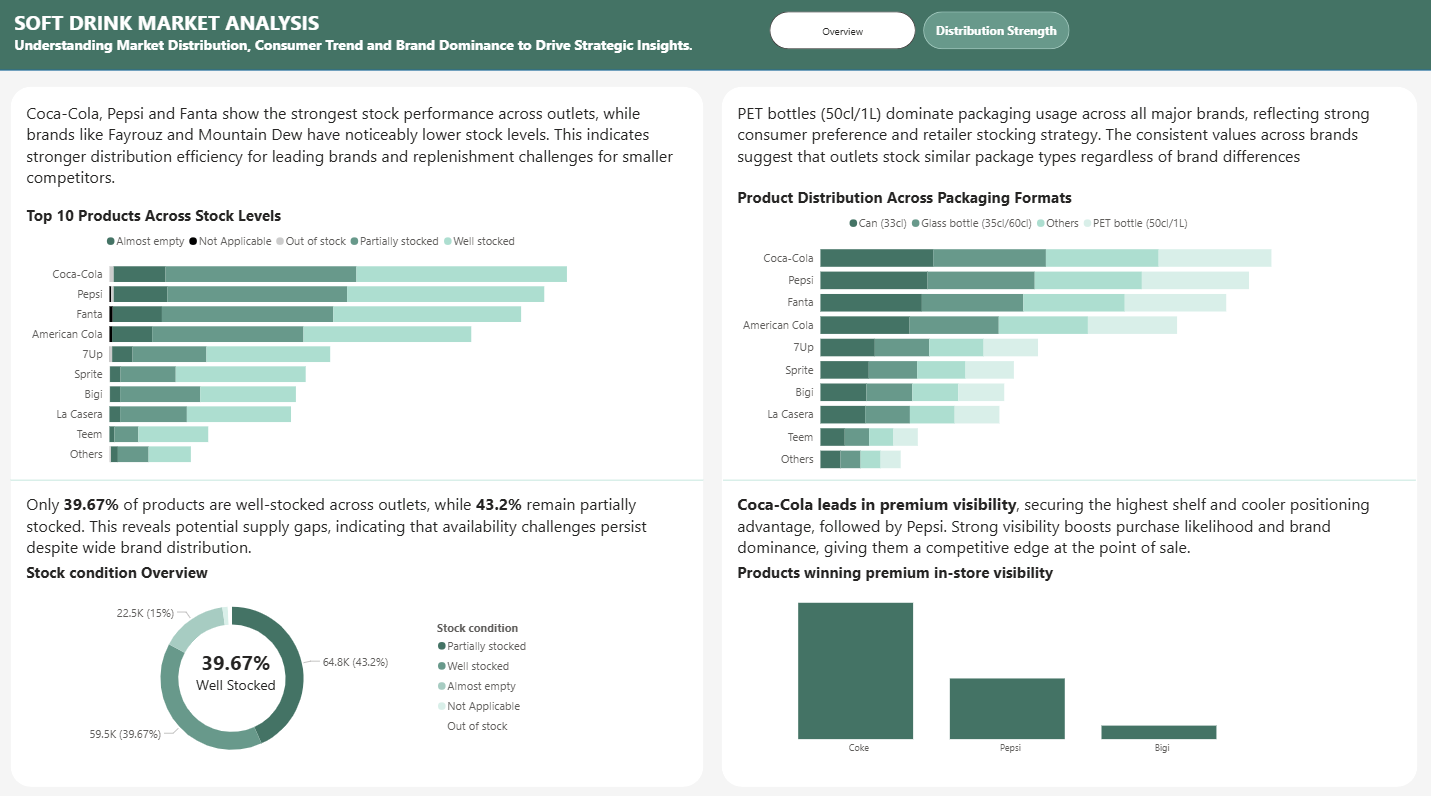

What the dashboard file says about the page in this screenshot:
{"tool":"powerbi","page":{"name":"Distribution Strength","canvas":[1920,1080],"ordinal":1},"visuals":[{"type":"shape","box":[25.9,125.4,919.5,929.4],"z":0},{"type":"shape","box":[969.2,125.4,923.5,929.4],"z":2000},{"type":"columnChart","title":"Products winning premium in-store visibility","fields":{"Category":["Product Visibility Data.Product with Higher shelf/refrigerator presence"],"Y":["Measures table.Shelf Priority Count"]},"box":[985.2,756.3,734.4,264.7],"z":3000},{"type":"barChart","title":"Product Distribution Across Packaging Formats","fields":{"Category":["Product Visibility Data.Brand"],"Y":["Measures table.Brand availability"],"Series":["Product Visibility Data.Package_display"]},"box":[985.2,228.9,702.5,419.9],"z":4000},{"type":"donutChart","title":"Stock condition Overview","fields":{"Category":["Product Visibility Data.Stock condition"],"Y":["CountNonNull(Product Visibility Data.Stock condition)"]},"box":[41.6,755.9,683,281.1],"z":5000},{"type":"textbox","box":[243.6,866.3,164.5,108.3],"z":6000},{"type":"barChart","title":"Product Coverage Across Stock Levels","fields":{"Category":["Product Visibility Data.Brand"],"Y":["Measures table.Brand availability"],"Series":["Product Visibility Data.Stock condition"]},"box":[41.8,280.6,770.2,358.2],"z":7000},{"type":"shape","box":[0,0,1920,104.1],"z":11000},{"type":"textbox","box":[26.3,15.3,942.6,94.3],"z":12000},{"type":"pageNavigator","box":[1032.5,26.3,399,50.4],"z":13000},{"type":"textbox","box":[41.8,139.3,889.6,141.3],"z":14000},{"type":"textbox","box":[41.8,658.8,889.6,97.5],"z":15000},{"type":"shape","box":[25.9,636.9,919.5,21.9],"z":16000},{"type":"textbox","box":[985.2,125.4,889.6,97.5],"z":17000},{"type":"textbox","box":[985.2,658.8,889.6,97.5],"z":18000},{"type":"shape","box":[971.2,636.9,919.5,21.9],"z":19000}]}

Visuals, with their boxes in screenshot pixels (x1, y1, x2, y2), scaled from the page's 1920x1080 canvas onto the 1431x796 screenshot:
shape: (19, 92, 705, 777)
shape: (722, 92, 1411, 777)
"Products winning premium in-store visibility" columnChart: (734, 557, 1282, 753)
"Product Distribution Across Packaging Formats" barChart: (734, 169, 1258, 478)
"Stock condition Overview" donutChart: (31, 557, 540, 764)
textbox: (182, 638, 304, 718)
"Product Coverage Across Stock Levels" barChart: (31, 207, 605, 471)
shape: (0, 0, 1430, 77)
textbox: (20, 11, 722, 81)
pageNavigator: (770, 19, 1067, 57)
textbox: (31, 103, 694, 207)
textbox: (31, 486, 694, 557)
shape: (19, 469, 705, 486)
textbox: (734, 92, 1397, 164)
textbox: (734, 486, 1397, 557)
shape: (724, 469, 1409, 486)
